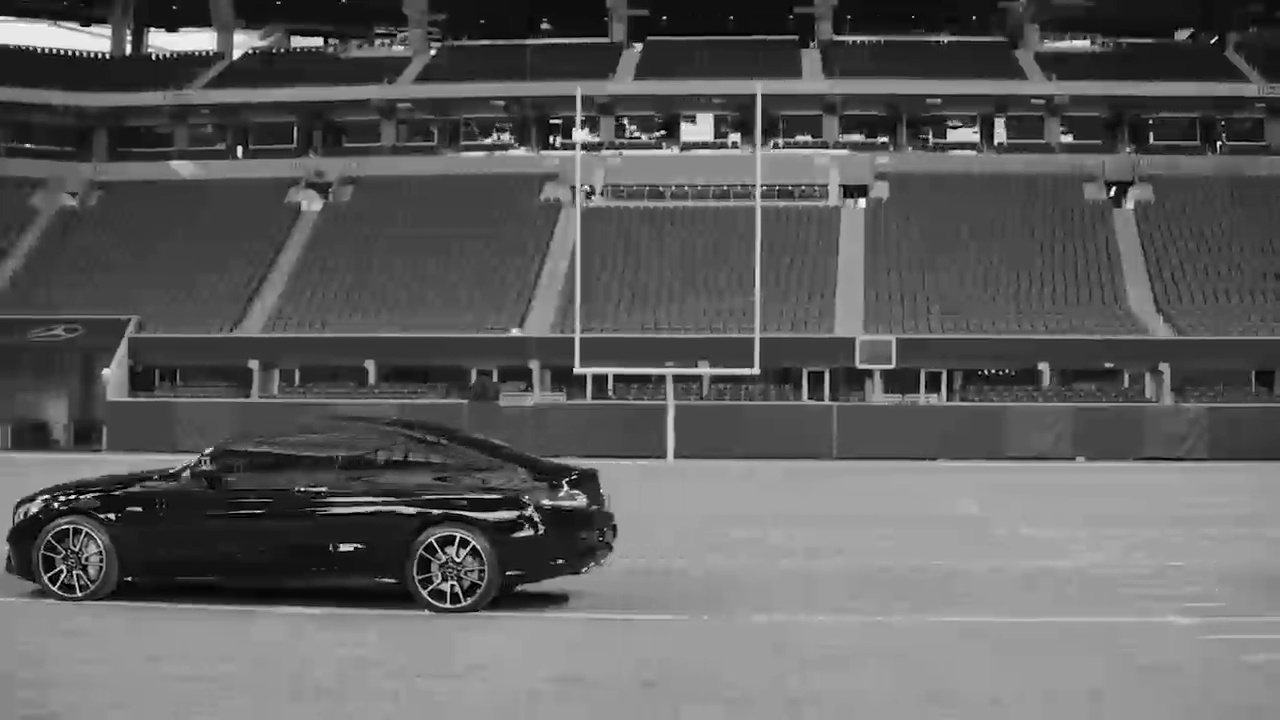car: (6, 414, 622, 616)
